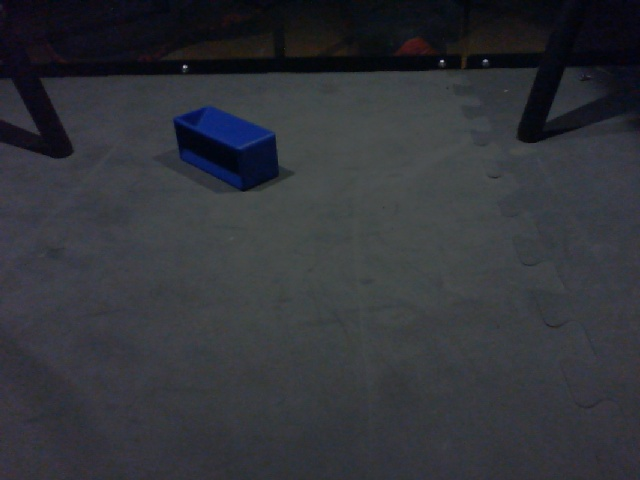BlueSample: (174, 104, 283, 192)
